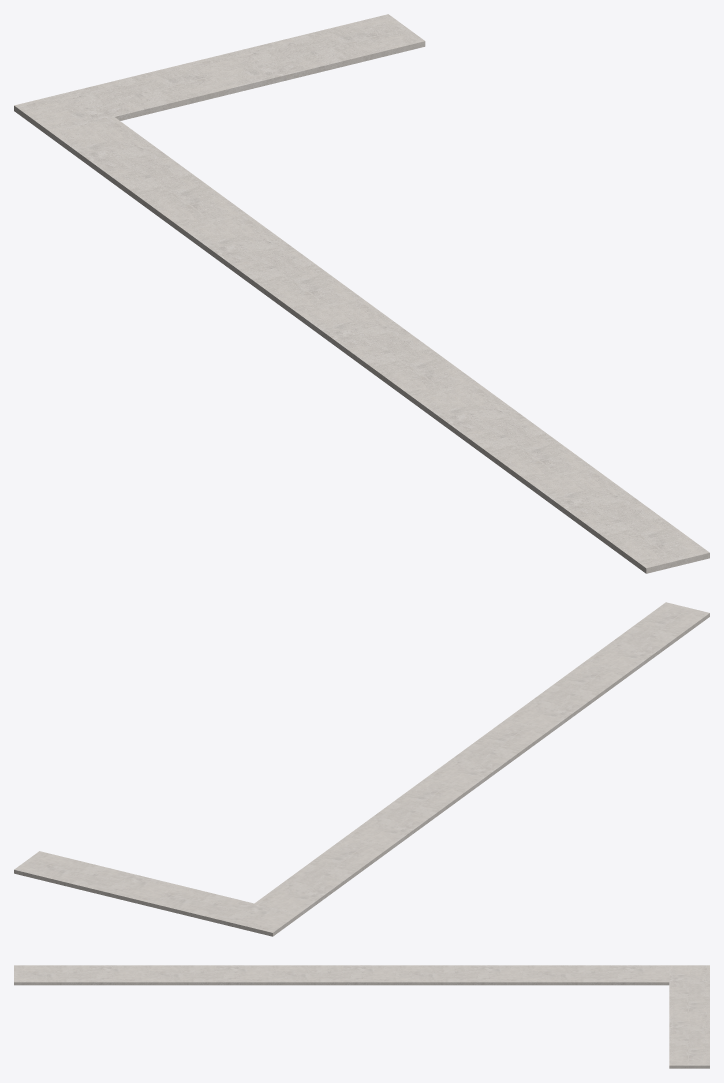
Rendered from SM_Gyedong_Ceiling_01A.fbx.
3 renders of one model, top to bottom at view 1: azimuth 30°, elevation 25°; view 2: azimuth 150°, elevation 25°; view 3: azimuth 270°, elevation 25°, orthographic. The views are drawn at different scales.
Parts seen in each view (by area): view 1: SM_Gyedong_Ceiling_01A; view 2: SM_Gyedong_Ceiling_01A; view 3: SM_Gyedong_Ceiling_01A.
Boxes of the visible parts, x1,y1,x2,y2 form: SM_Gyedong_Ceiling_01A: (14,14,709,573); SM_Gyedong_Ceiling_01A: (14,602,709,936); SM_Gyedong_Ceiling_01A: (14,965,709,1068).
Bounding box in the file's own units: 416 × 5.89 × 1215.
